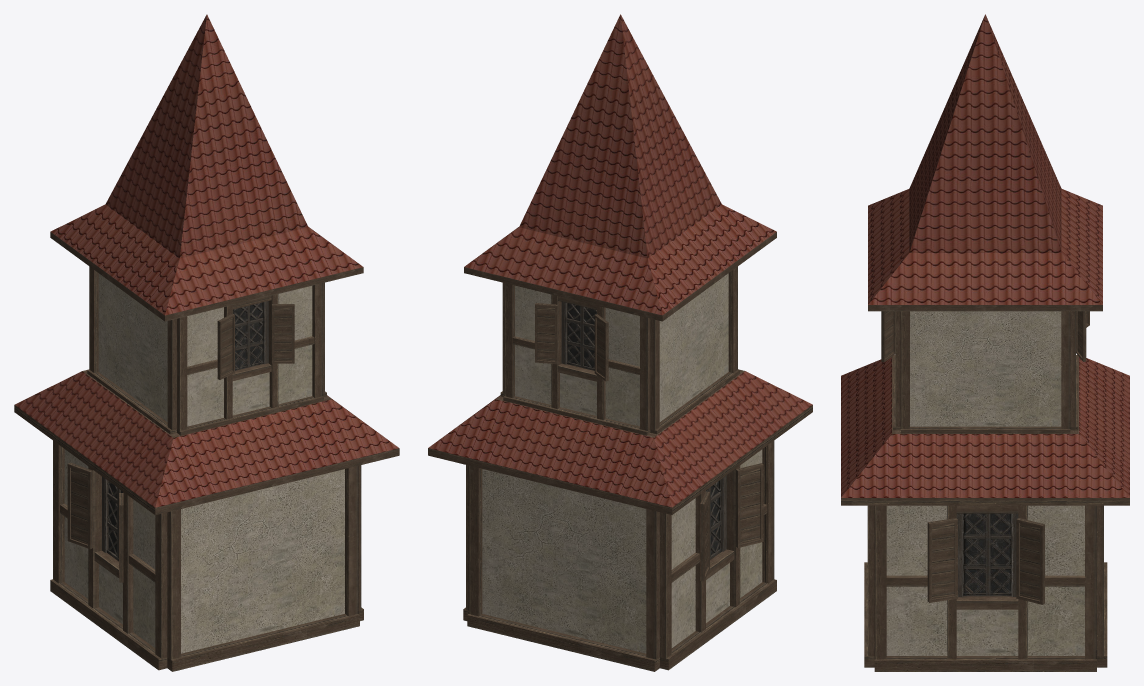
Rendered from ARC1010374.fbx.
3 renders of one model, left to right at view 1: azimuth 30°, elevation 25°; view 2: azimuth 150°, elevation 25°; view 3: azimuth 270°, elevation 25°, orthographic. The views are drawn at different scales.
Visible parts, largest first — view 1: smARC1010374; view 2: smARC1010374; view 3: smARC1010374.
Part boxes in pixels (bbox=[...]): smARC1010374: bbox=[14, 14, 399, 671]; smARC1010374: bbox=[428, 14, 812, 671]; smARC1010374: bbox=[841, 14, 1129, 671].
Size of the model in its own units: 401 by 929 by 401.
Materials: 1 (1 with a texture image).
